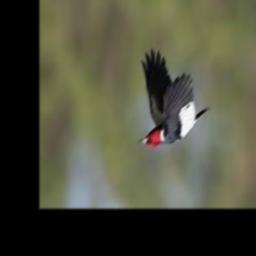Woodpecker: (139, 49, 211, 148)
